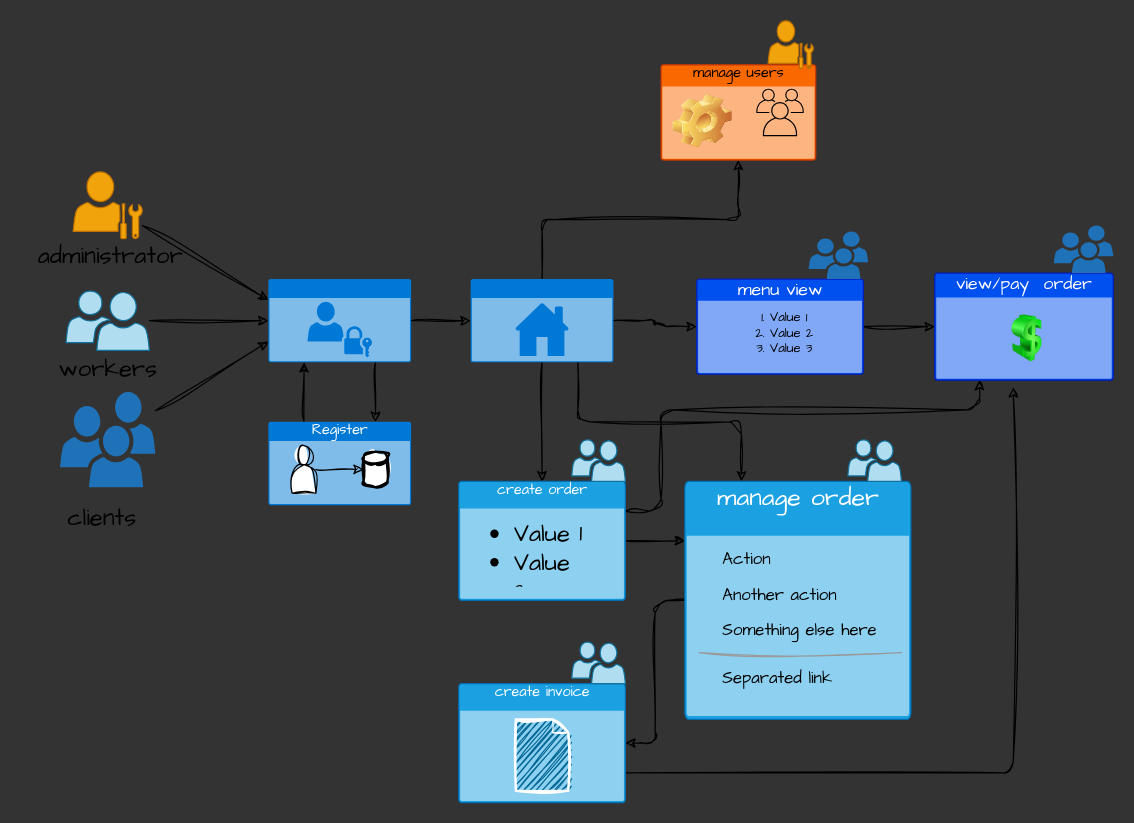
This 1134x823 diagram has some shape labels left out. The shapes that lost their labels are listed below. From the top down, each one's centre as x and y in pixels, then its label:
the point at 779,111: users
the point at 339,320: Login
the point at 541,320: Home
